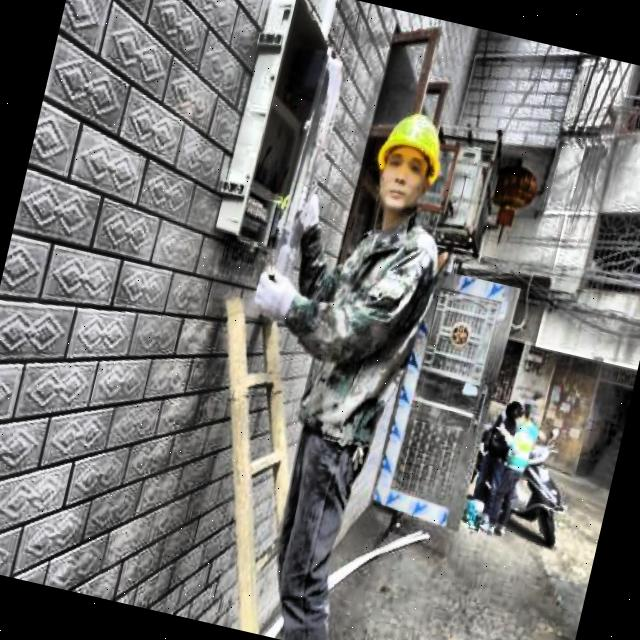helmet: (359, 96, 458, 224)
